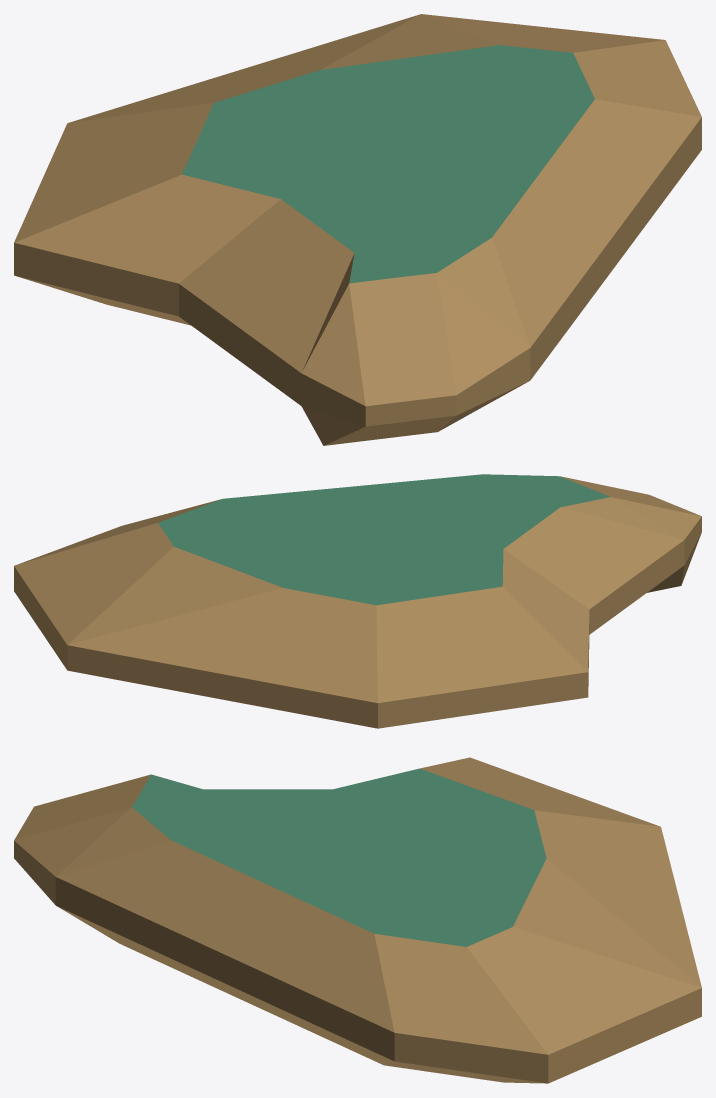
Rendered from Rock_Medium_Mesa_Eroded_Moss_Grass_Flat_04.FBX.
The picture shows the model from 3 angles, top to bottom: view 1: azimuth 30°, elevation 25°; view 2: azimuth 150°, elevation 25°; view 3: azimuth 270°, elevation 25°; orthographic projection. The views are drawn at different scales.
Visible parts, largest first — view 1: Rock_Medium_Mesa_Eroded_Moss_Grass_Flat_04; view 2: Rock_Medium_Mesa_Eroded_Moss_Grass_Flat_04; view 3: Rock_Medium_Mesa_Eroded_Moss_Grass_Flat_04.
Part boxes in pixels (x1,y1,x2,y2): Rock_Medium_Mesa_Eroded_Moss_Grass_Flat_04: (14, 14, 701, 445); Rock_Medium_Mesa_Eroded_Moss_Grass_Flat_04: (14, 474, 701, 728); Rock_Medium_Mesa_Eroded_Moss_Grass_Flat_04: (14, 757, 701, 1083).
Size of the model in its own units: 4140 by 707 by 4047.
